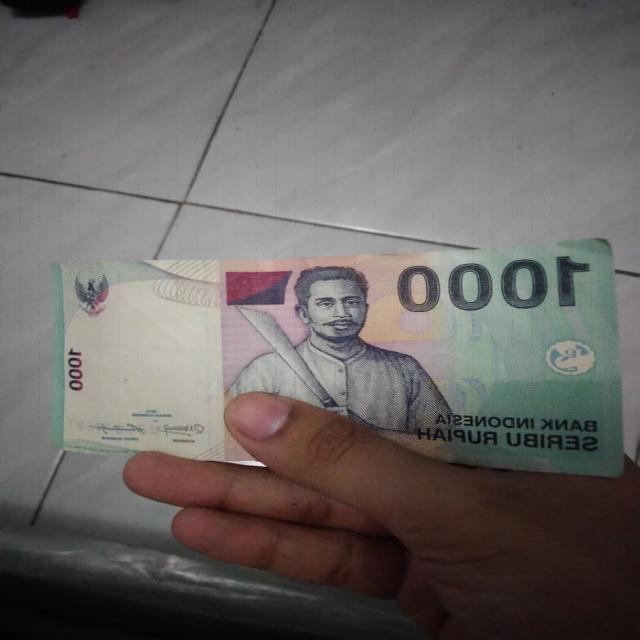seribu rupiah: (61, 240, 619, 482)
